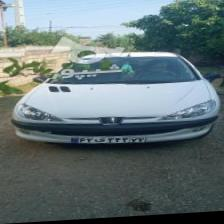plate: (68, 133, 148, 147)
